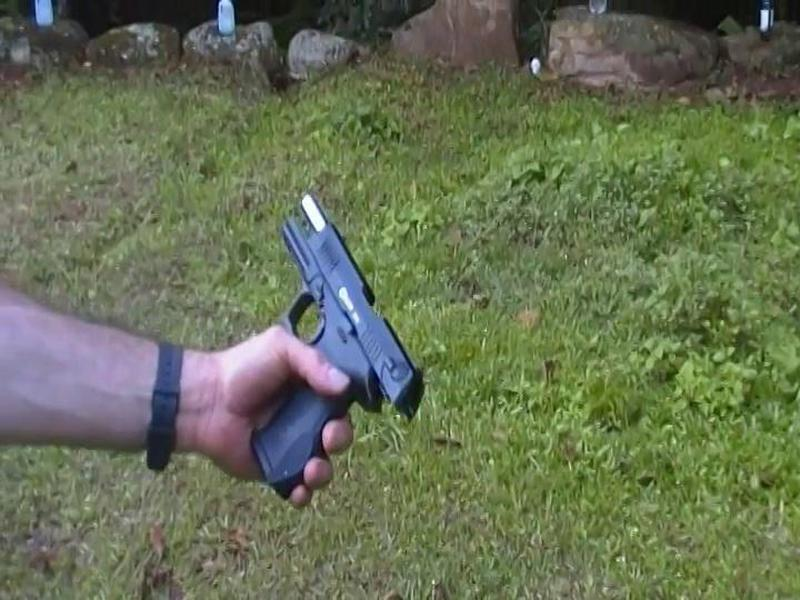Pistola: (228, 178, 449, 506)
